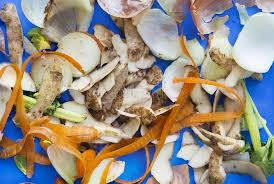Organic: (3, 1, 274, 184)
